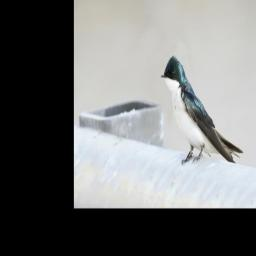Swallow: (159, 53, 244, 169)
